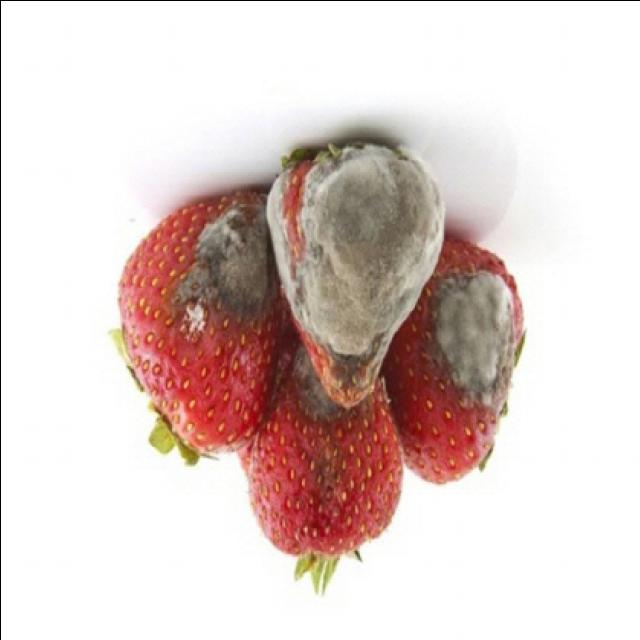Gray Mold: (265, 139, 446, 408), (411, 246, 521, 445), (280, 334, 393, 523), (157, 188, 286, 350)
